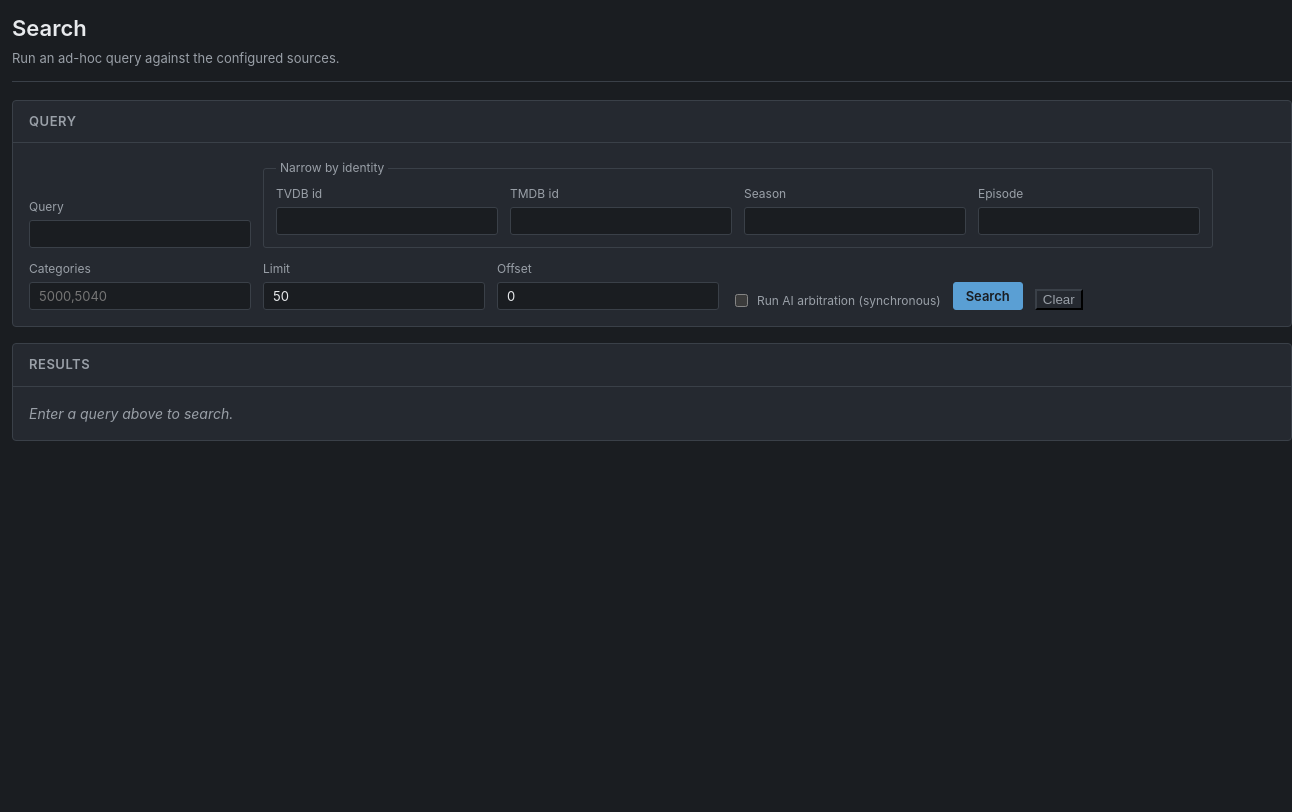
Search › size rendering (arb-i3v7: binary units via the shared formatBytes) › renders a non-positive size (0) as the absence dash, not "0 B"
Type "some series" into the field labelled "Query" at (140, 234), box [29,220,251,248]
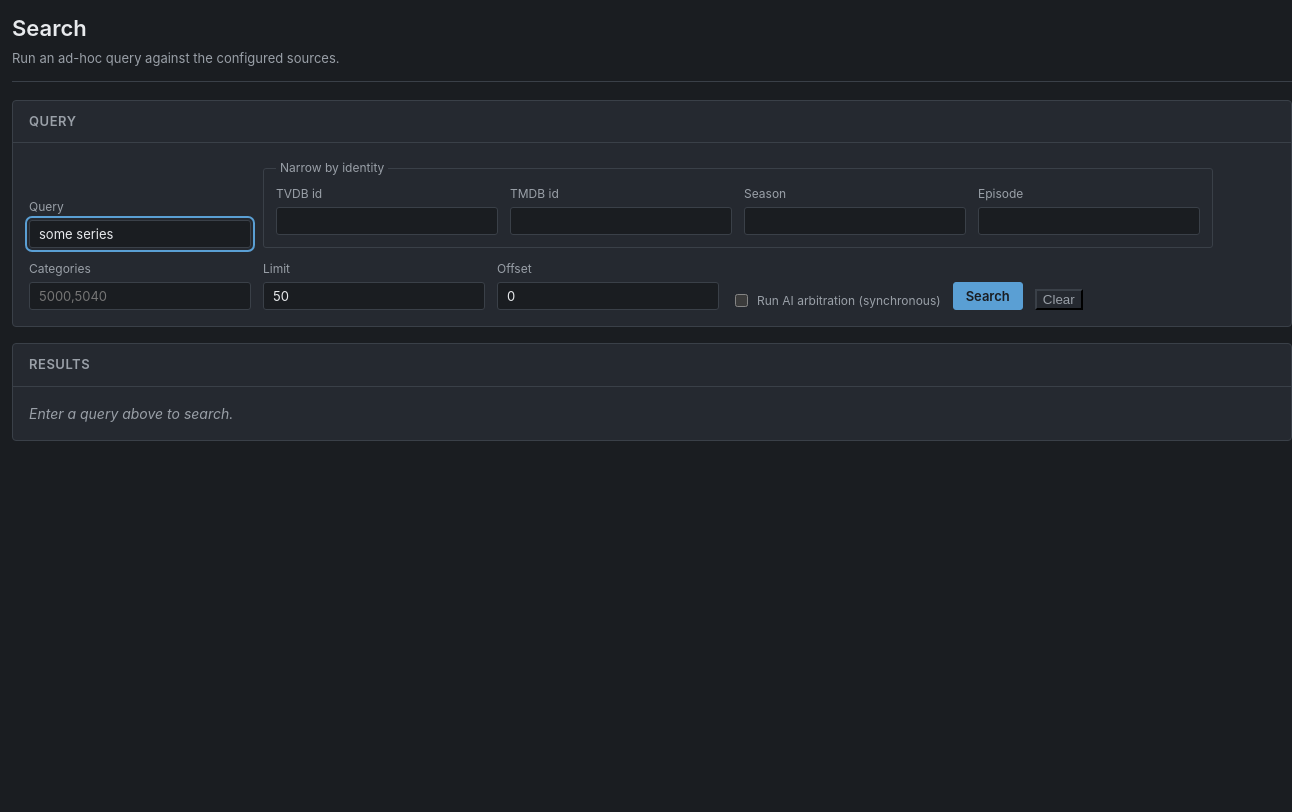
Click the button "Search" at (988, 296), box [953,282,1023,310]
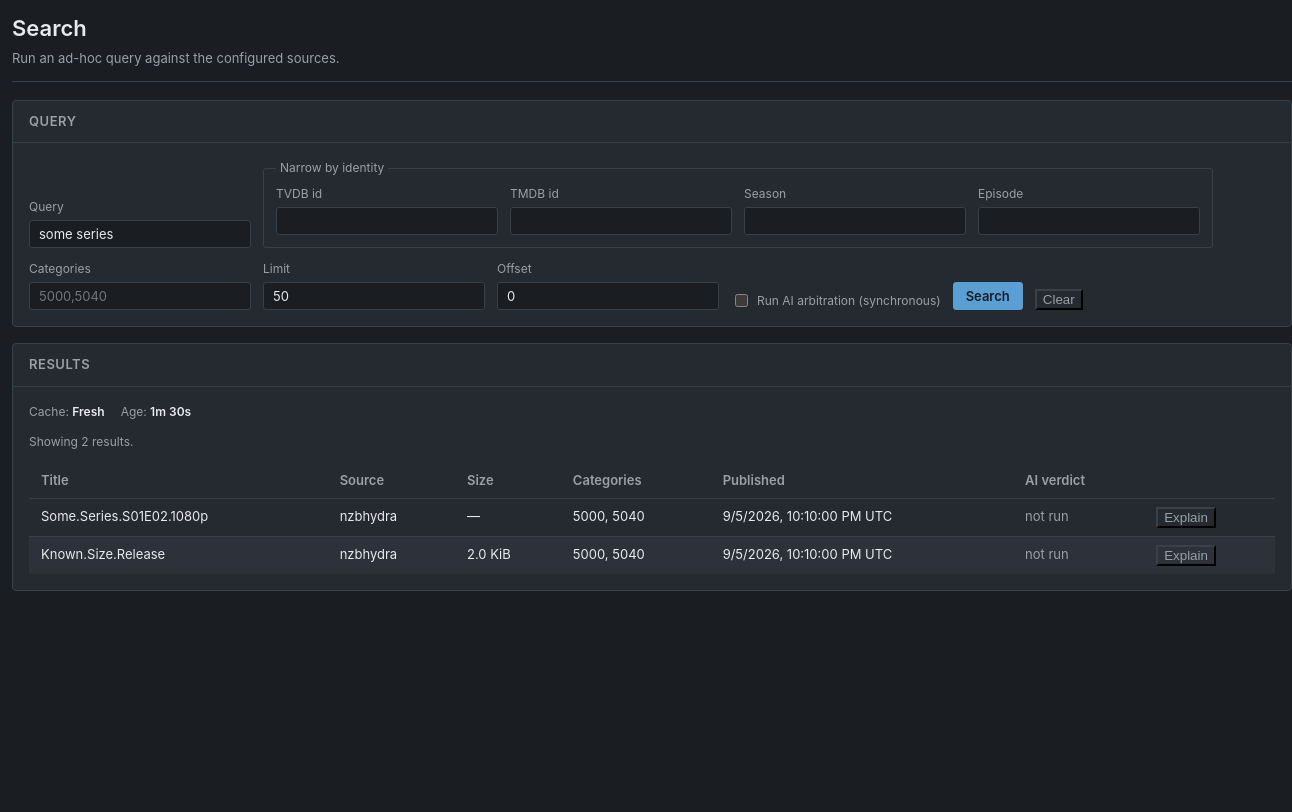
Result: the text "Some.Series.S01E02.1080p" is shown at [29,498,328,536]
Result: the text "—" is shown at [455,498,561,536]
Result: the text "2.0 KiB" is shown at [455,536,561,574]
